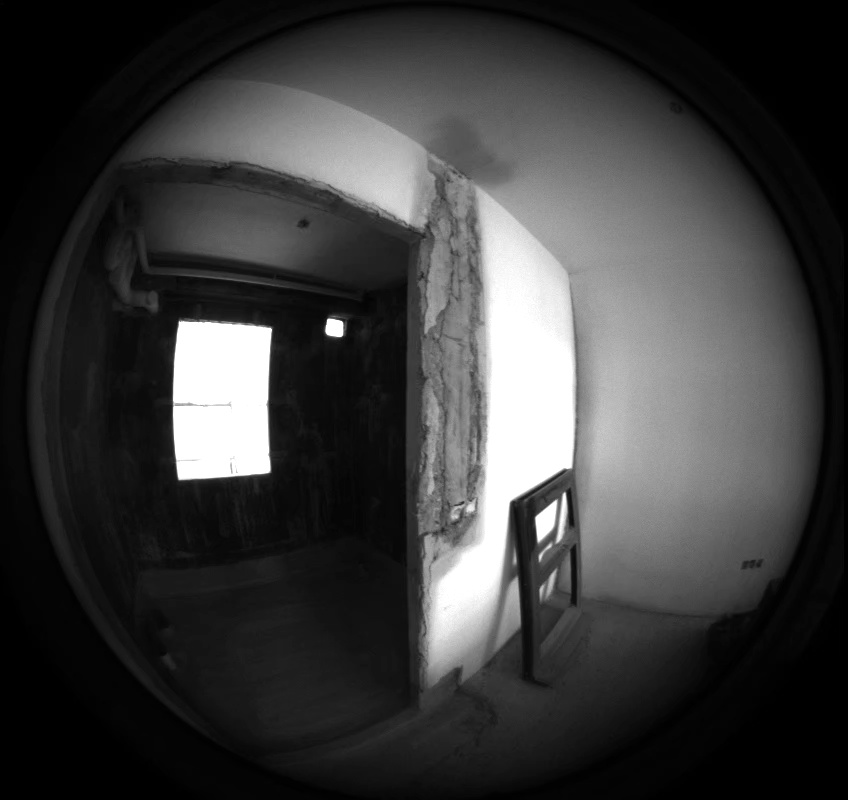Floor: (258, 196, 743, 795), (135, 210, 407, 748)
Pipe: (54, 86, 158, 313)
Wall: (330, 186, 817, 608)
Windows: (69, 214, 580, 683), (98, 159, 271, 478)
